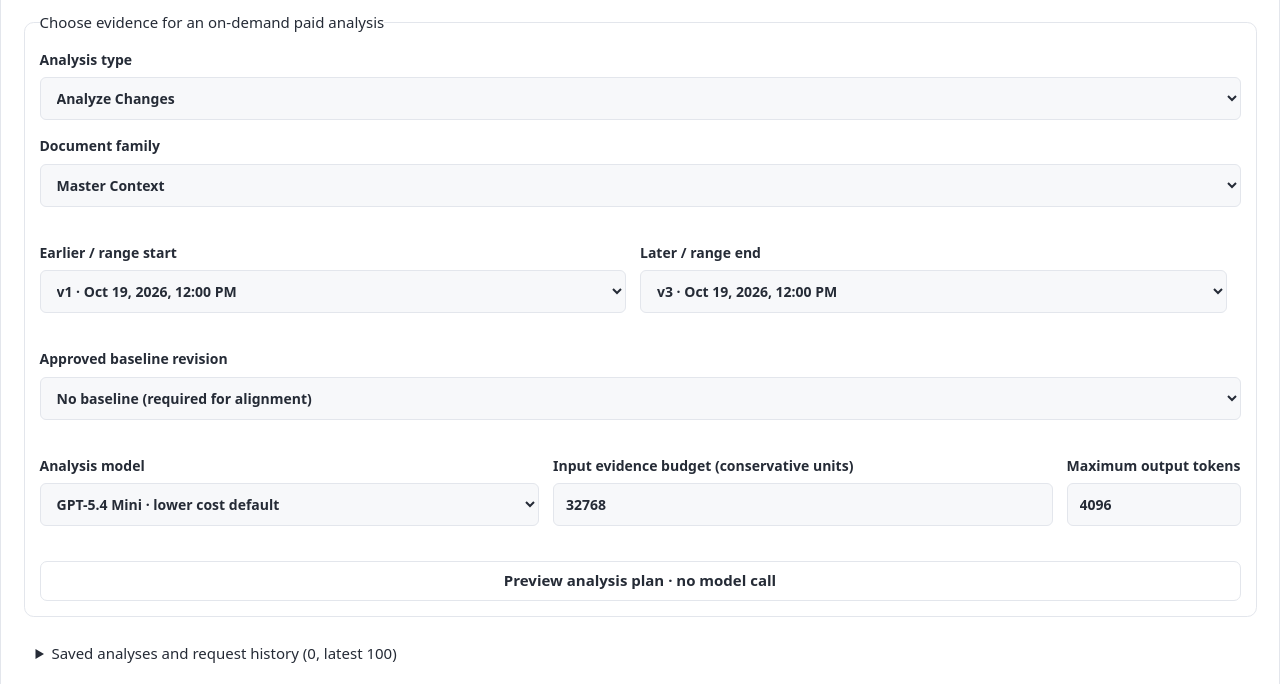
Test: unlocks a failed generation and retains its actionable error without an automatic retry
(page scrolled)
Click the button "Preview analysis plan · no model call".
click(640, 581)  # box x1=40 y1=561 x2=1240 y2=601
(page scrolled)
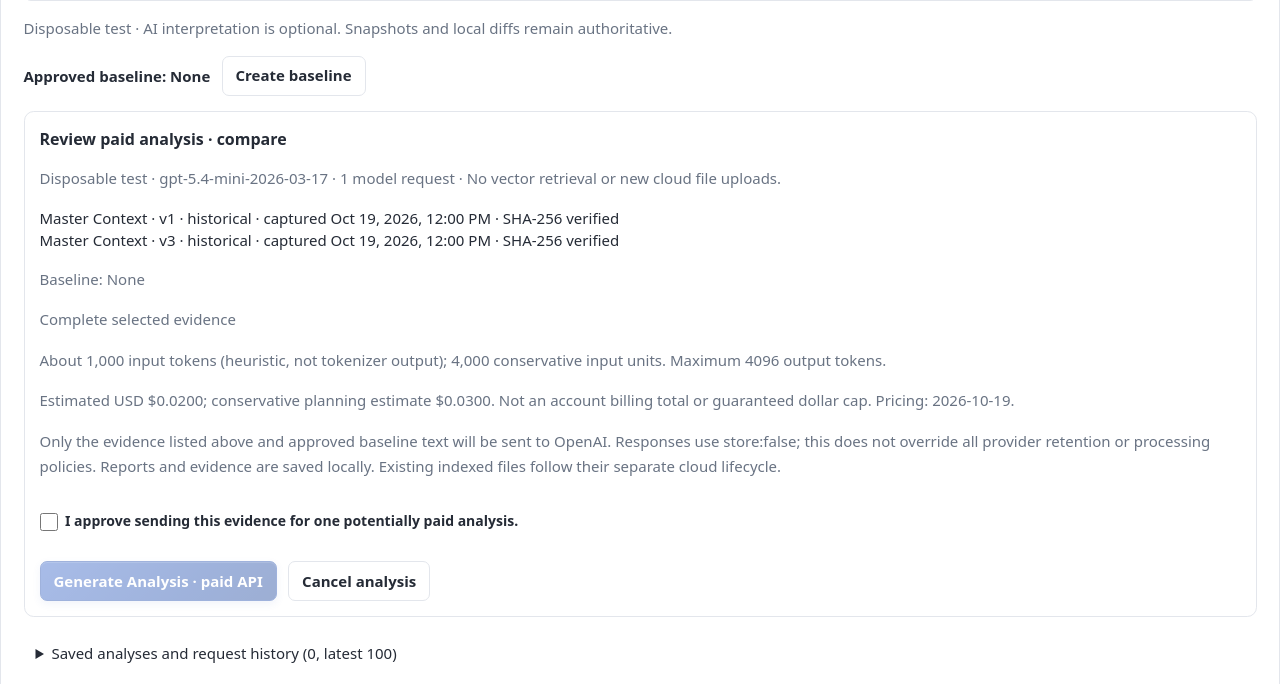
Click the checkbox labelled "I approve sending".
click(48, 522)  # box x1=40 y1=513 x2=58 y2=531
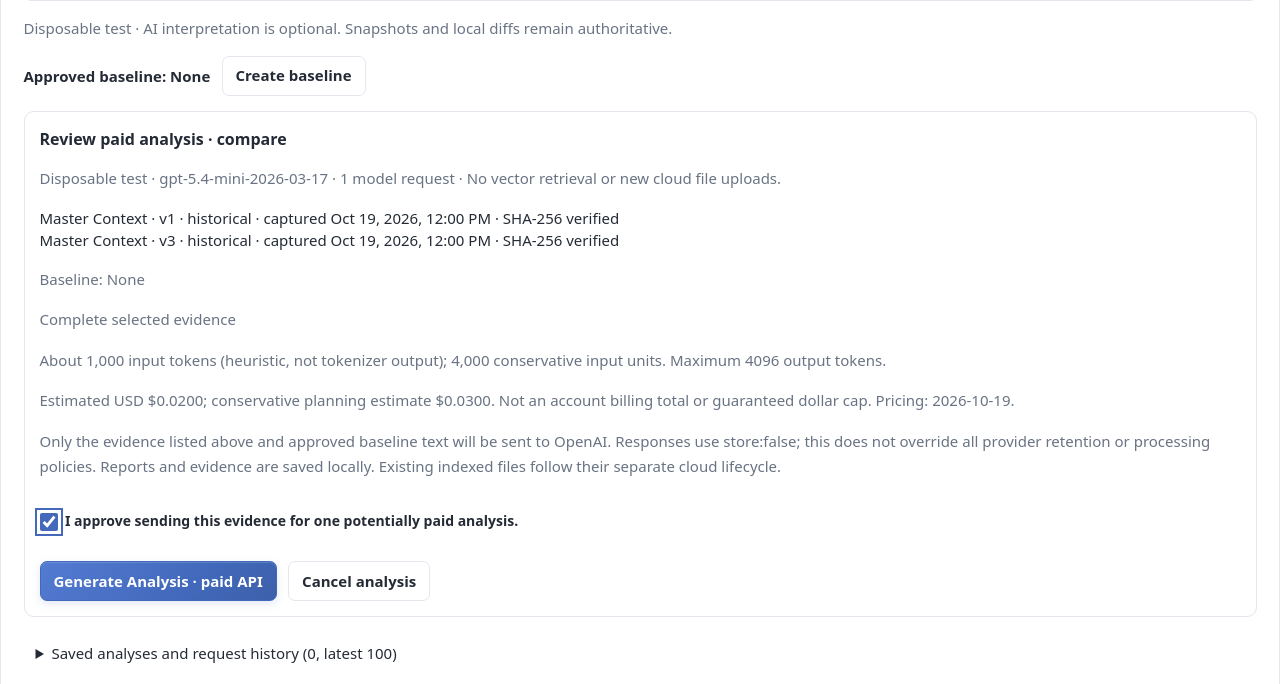
Click the button "Generate Analysis · paid API".
click(158, 581)  # box x1=40 y1=561 x2=277 y2=601
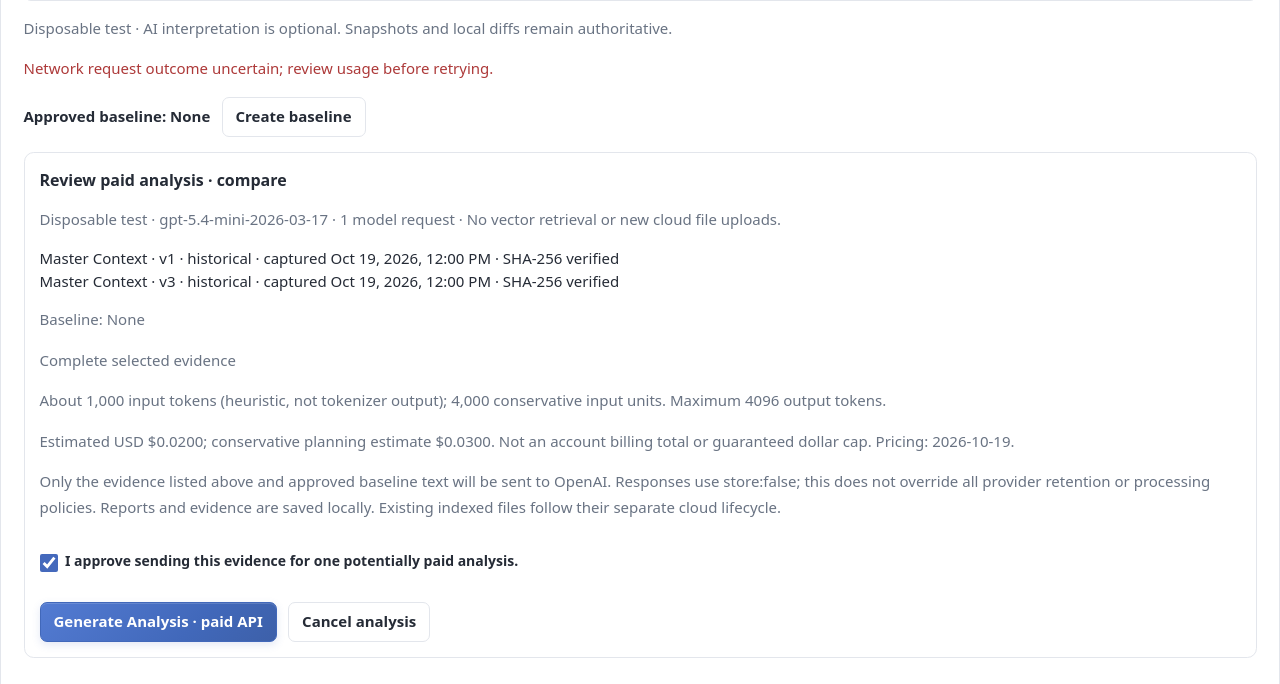
Expected: the button "Cancel analysis" is enabled, x1=288 y1=602 x2=430 y2=642
Expected: the message shows "outcome uncertain", x1=24 y1=58 x2=493 y2=78
